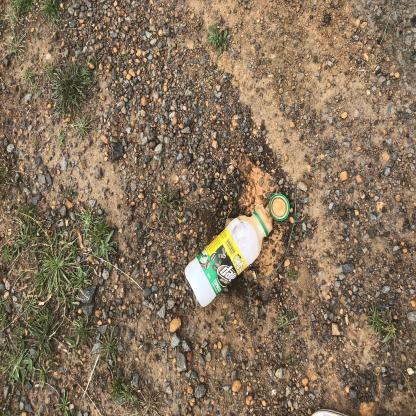trash: (79, 239, 161, 367), (139, 355, 175, 389)
